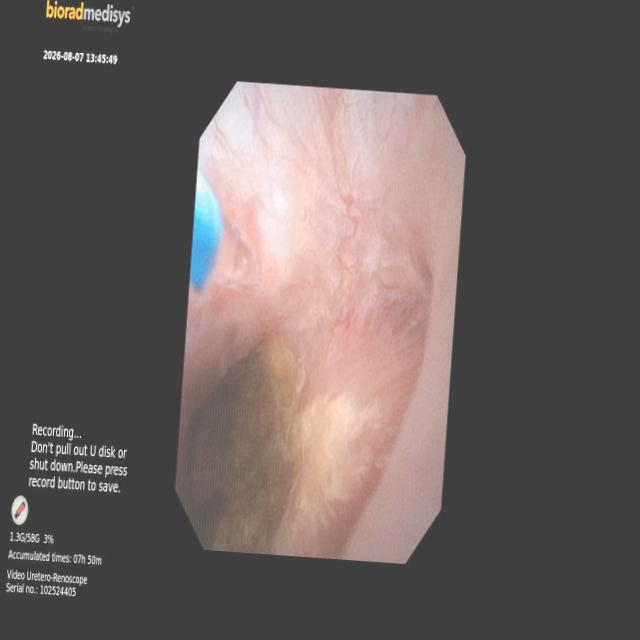laser-fibre: (210, 218, 259, 288)
stone-new: (192, 338, 300, 552)
